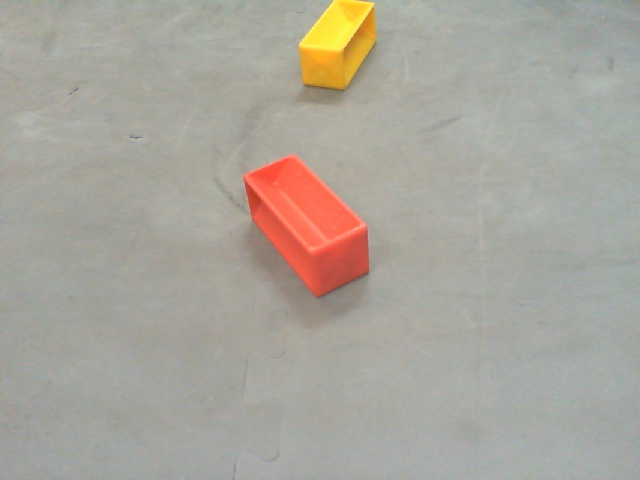RedSample: (241, 153, 374, 297)
YellowSample: (297, 1, 376, 92)
